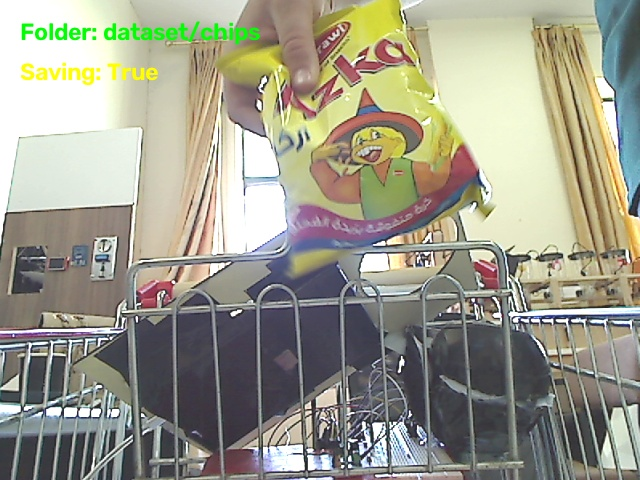chips: (218, 0, 489, 275)
